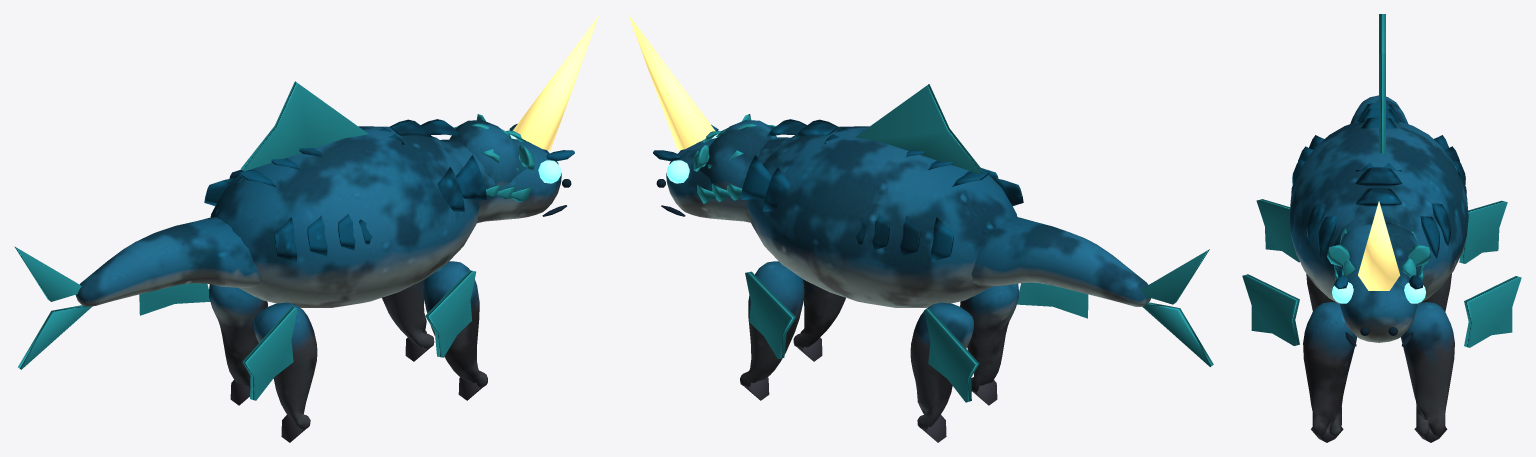
Rendered from camahueto.glb.
3 renders of one model, left to right at view 1: azimuth 30°, elevation 25°; view 2: azimuth 150°, elevation 25°; view 3: azimuth 270°, elevation 25°, orthographic. The views are drawn at different scales.
Visible parts, largest first — view 1: camahueto.001; view 2: camahueto.001; view 3: camahueto.001.
Part boxes in pixels (x1=…): camahueto.001: x1=14, y1=14, x2=599, y2=442; camahueto.001: x1=628, y1=14, x2=1213, y2=442; camahueto.001: x1=1242, y1=14, x2=1521, y2=442.
Bounding box in the file's own units: 2.78 × 1.5 × 1.19.
Materials: 6 (1 with a texture image).
